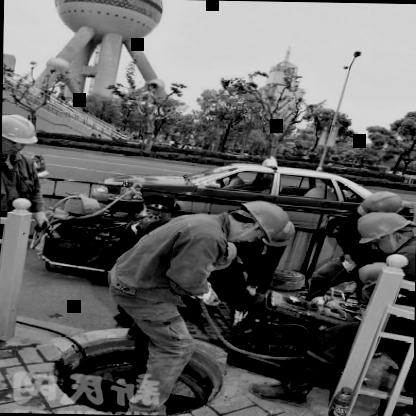helmet: (223, 195, 294, 251), (348, 206, 416, 246), (1, 111, 39, 157), (356, 189, 404, 220)
